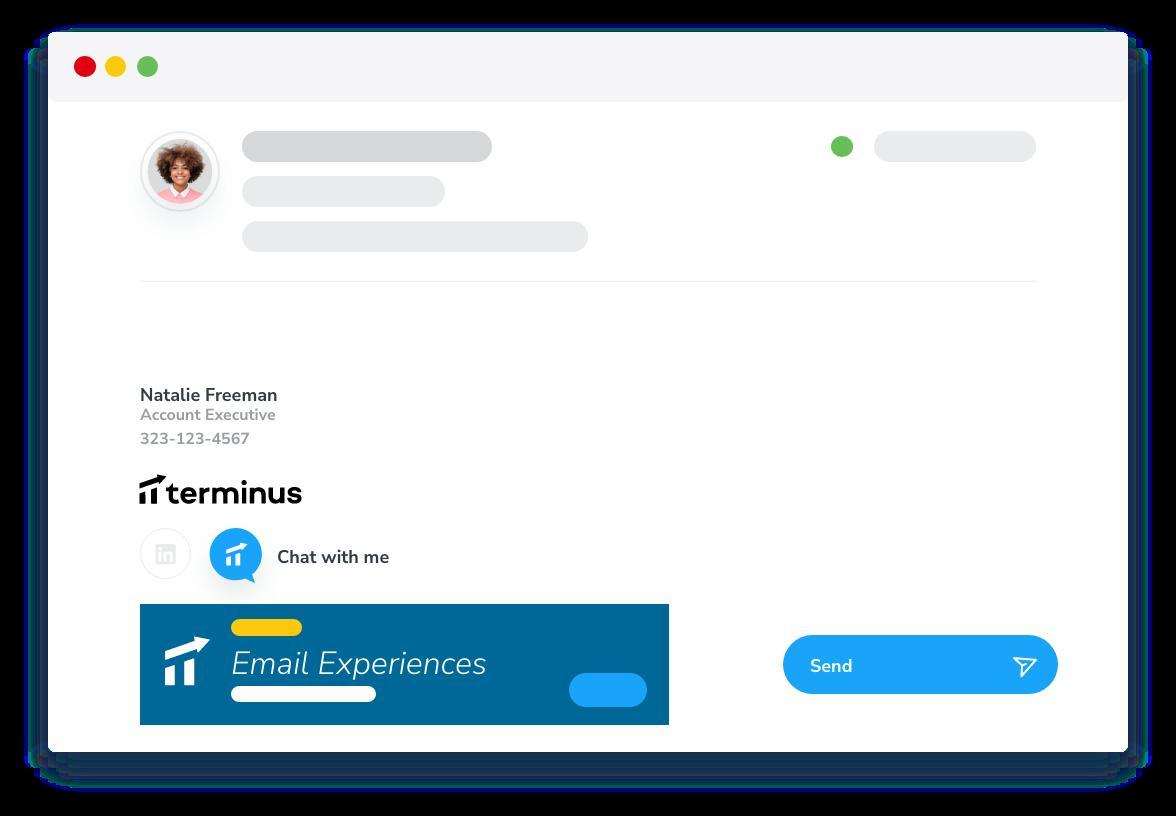button: (571, 674, 651, 708)
input: (874, 132, 1036, 163)
label: (786, 635, 1059, 695), (164, 475, 305, 511), (138, 384, 283, 409), (276, 543, 395, 573)
